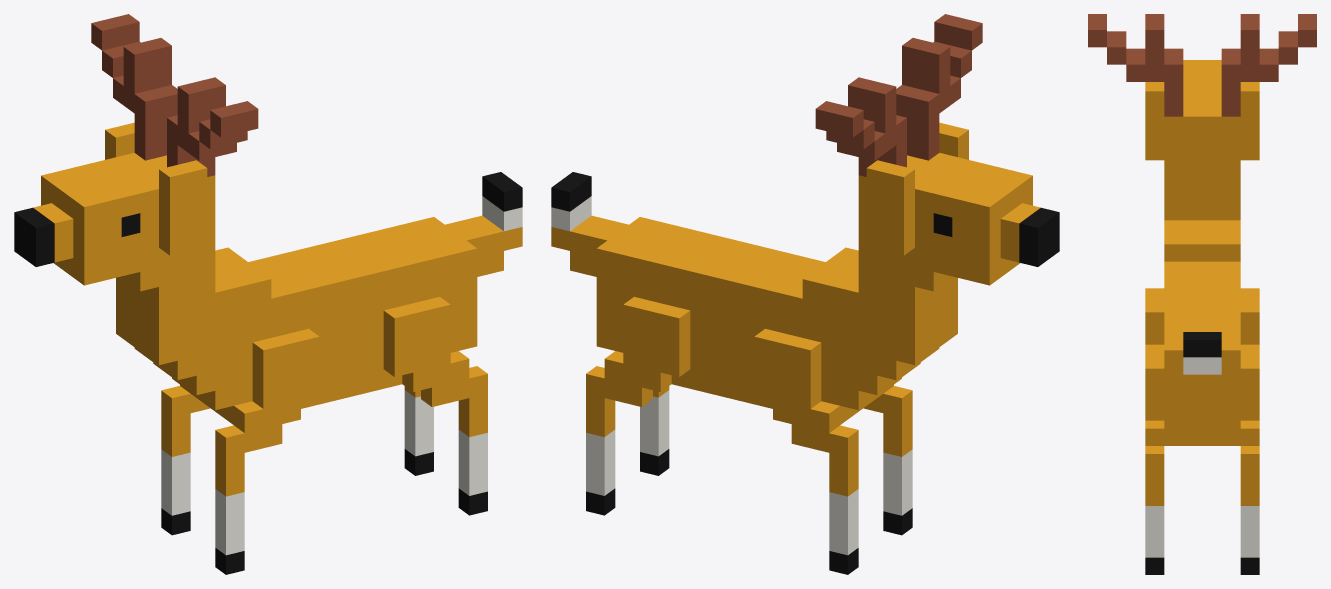
File: deer.glb
The picture shows the model from 3 angles, left to right: view 1: azimuth 30°, elevation 25°; view 2: azimuth 150°, elevation 25°; view 3: azimuth 270°, elevation 25°; orthographic projection. The views are drawn at different scales.
Parts seen in each view (by area): view 1: Deer; view 2: Deer; view 3: Deer.
Boxes of the visible parts, x1=… form: Deer: x1=14, y1=14, x2=522, y2=574; Deer: x1=551, y1=14, x2=1059, y2=574; Deer: x1=1088, y1=14, x2=1316, y2=574.
Bounding box in the file's own units: 26 × 25 × 12.
1 material, 1 textured.
